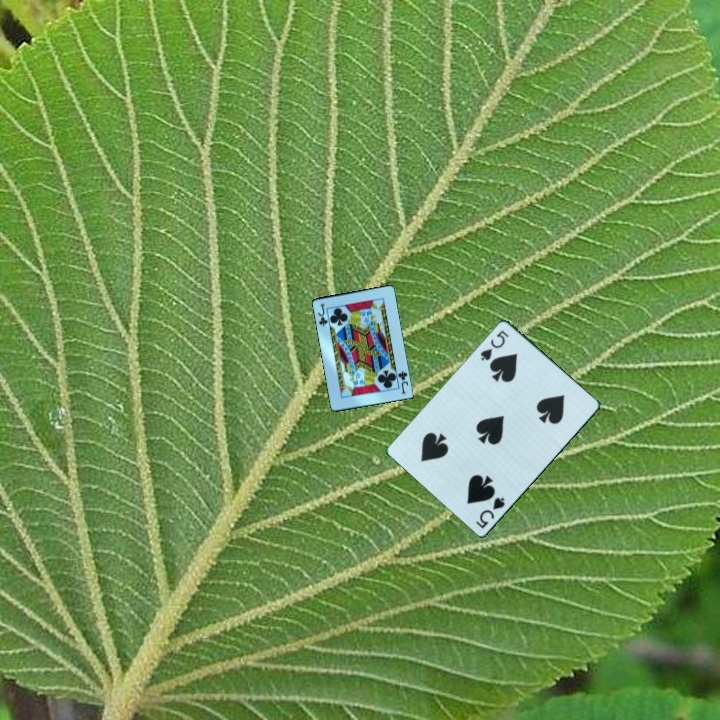5s: (472, 493, 508, 531), (477, 326, 512, 364)
Jc: (394, 367, 411, 397), (314, 300, 330, 328)
